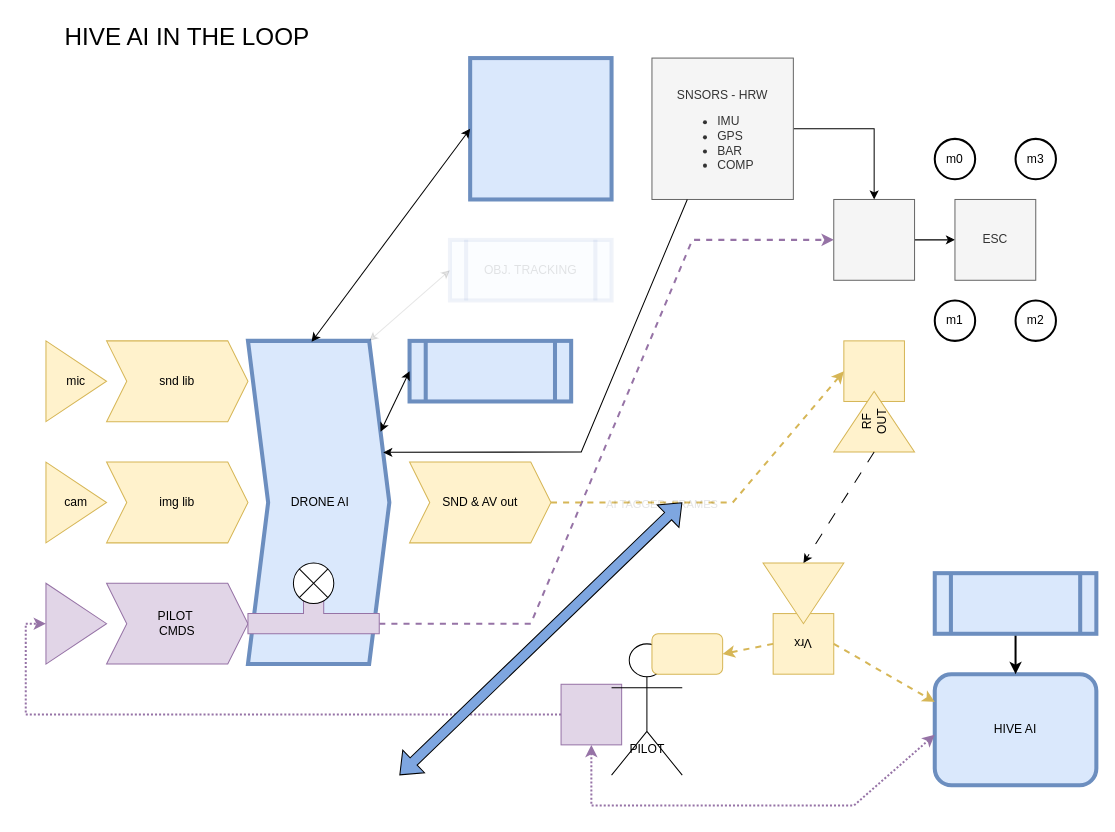
This 1115x832 diagram has some shape labels left out. Each missing label, with the box of its shape:
Actor: (611, 643, 682, 775)
FC: (833, 198, 915, 280)
RF - IN: (45, 582, 107, 664)
RF IN: (762, 562, 844, 624)
SND / LCD: (651, 633, 723, 674)
SNSORS - AI STRUC LIGHT IMG PROC: (468, 56, 613, 201)
TF LITE MODELS: (407, 338, 573, 403)
TF MODELS: (932, 571, 1098, 635)
Vtx: (843, 340, 904, 401)
